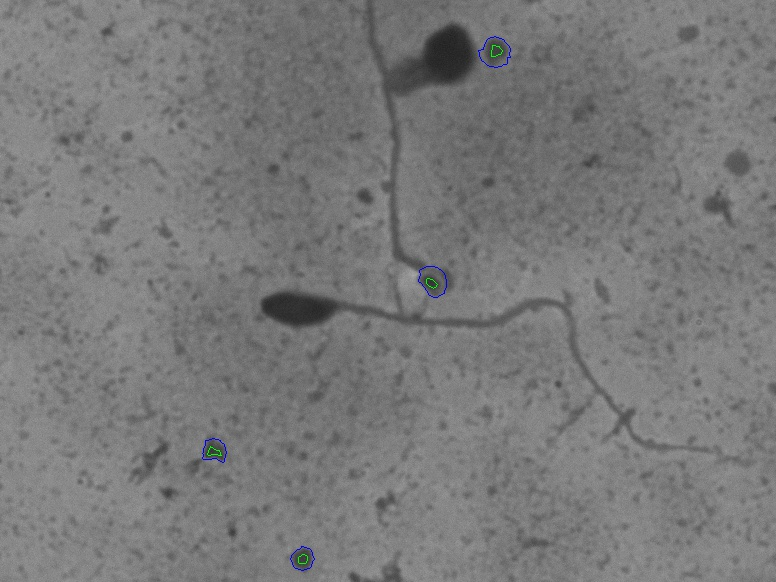Abnormal: (252, 283, 588, 380)
